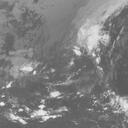cyclone: (30, 46, 88, 98)
